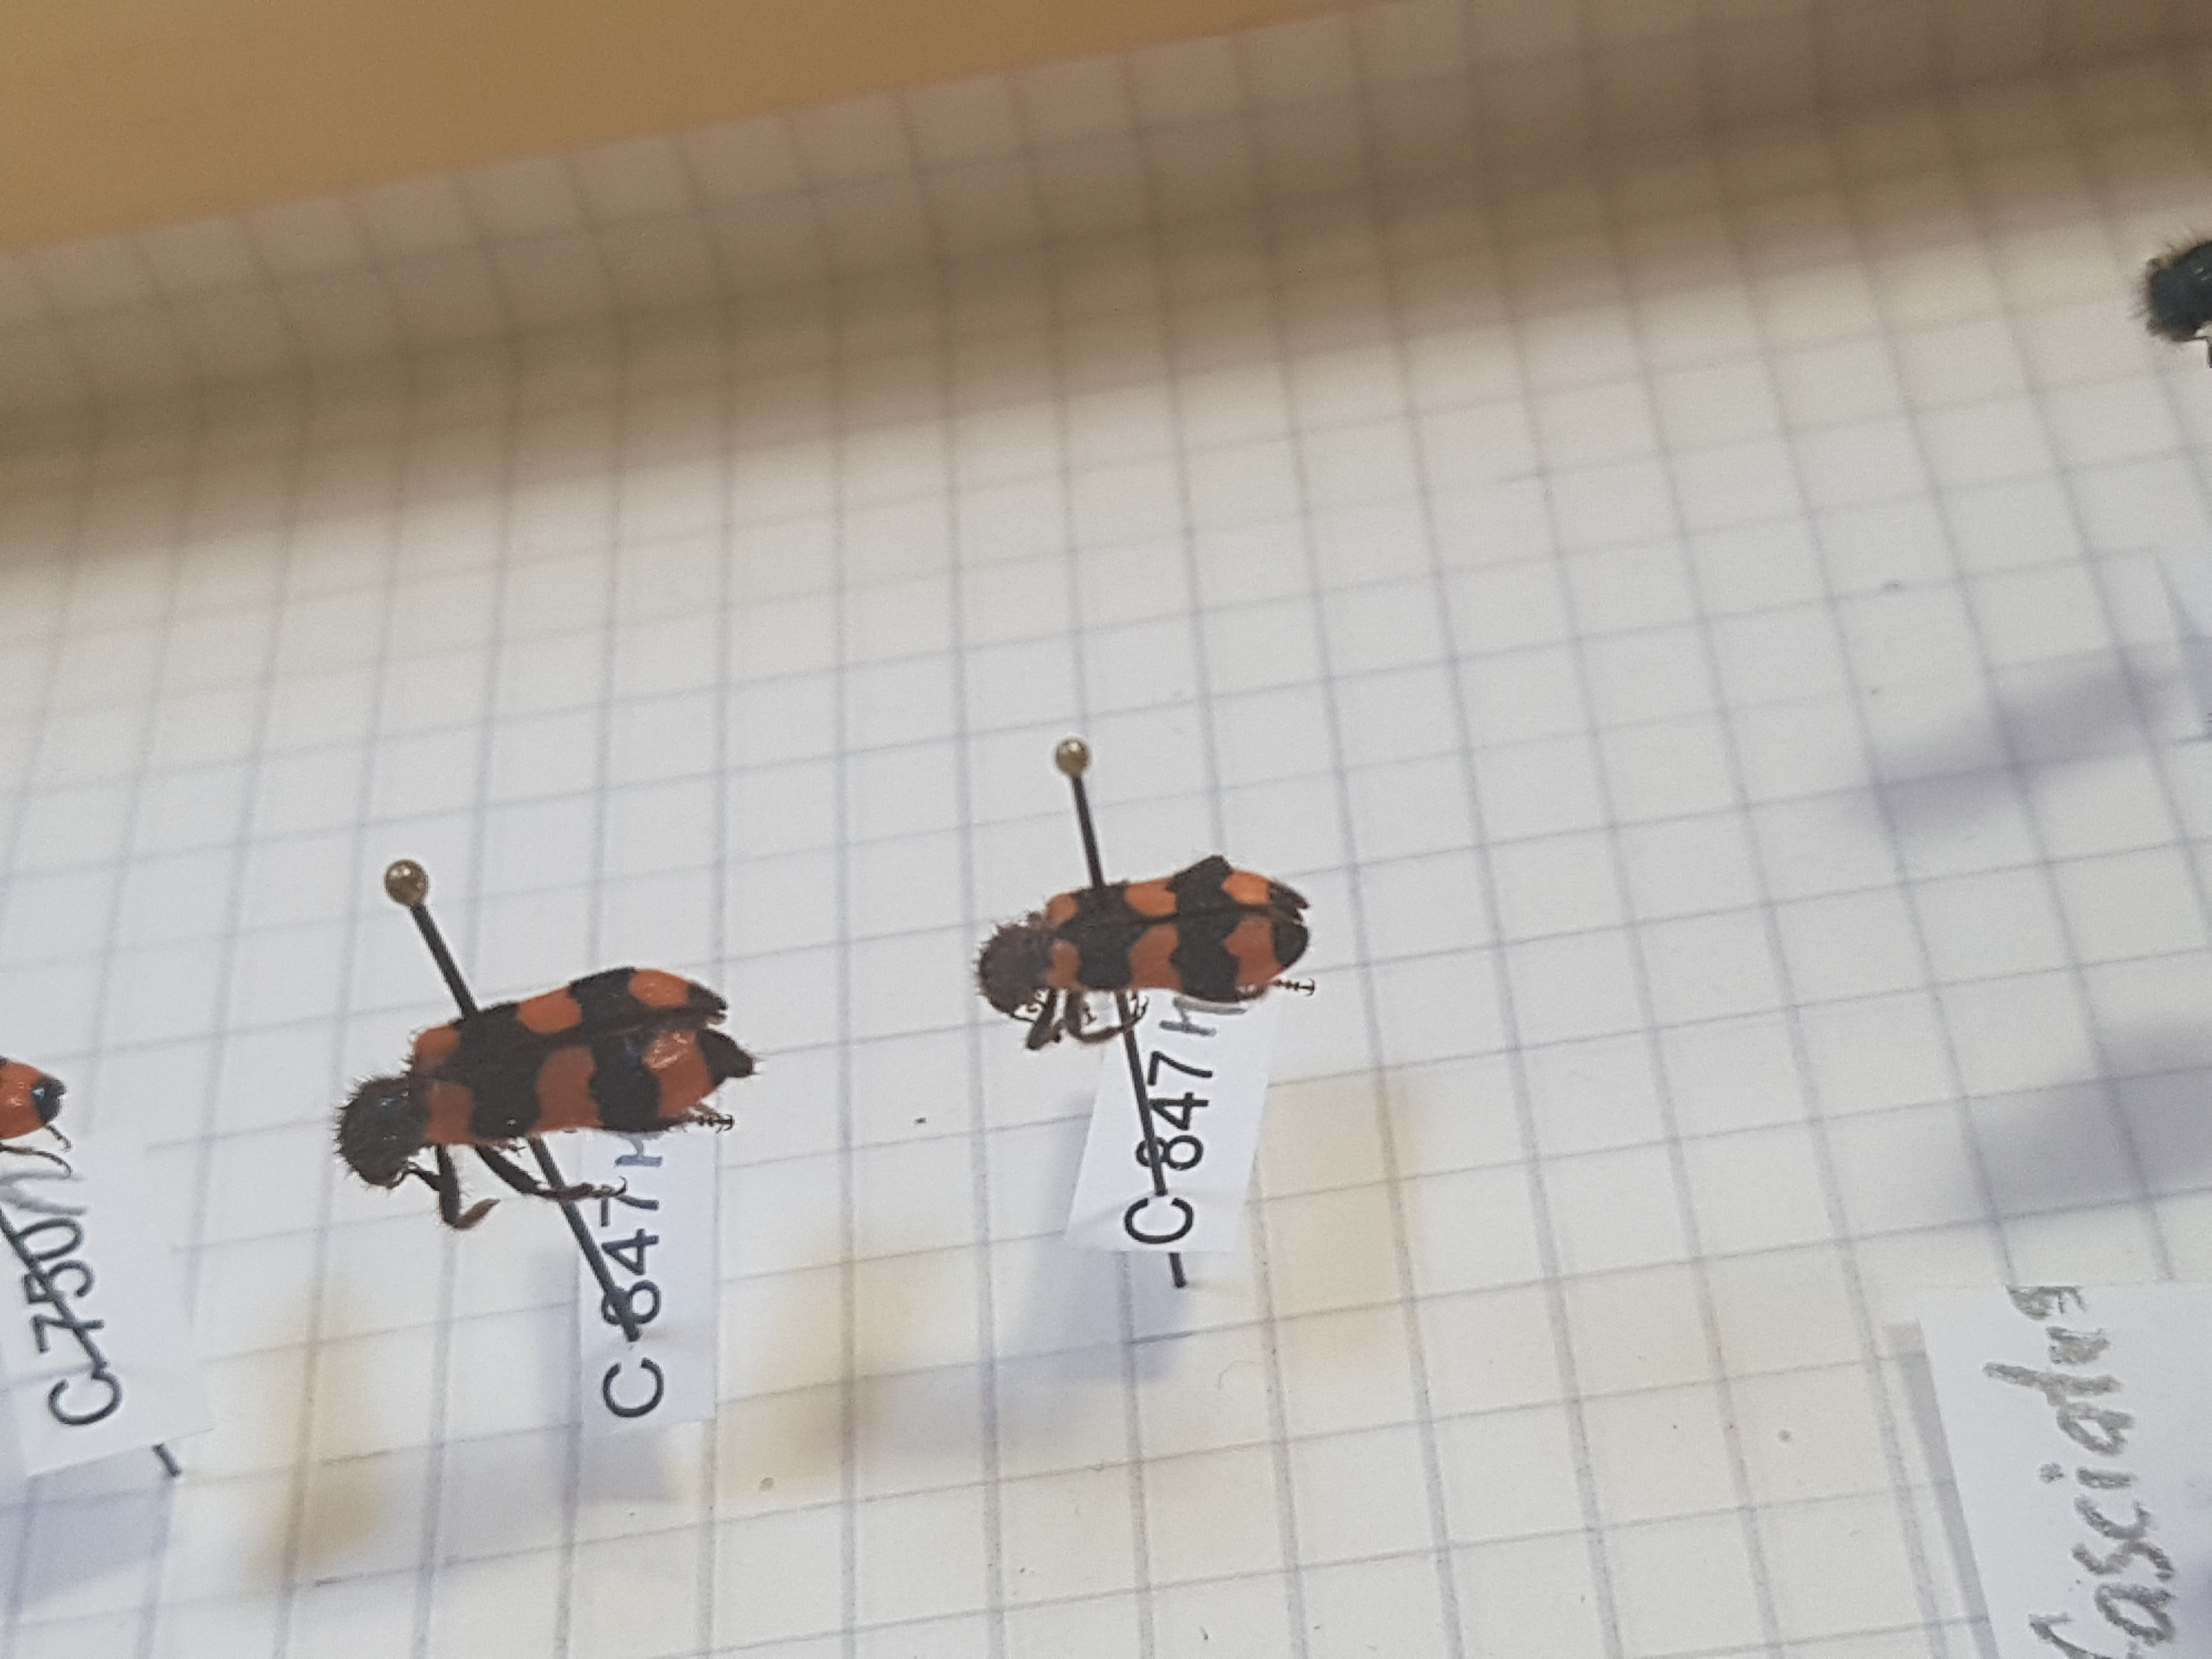trichodes_apiarius: (334, 958, 773, 1248), (942, 830, 1331, 1049)
